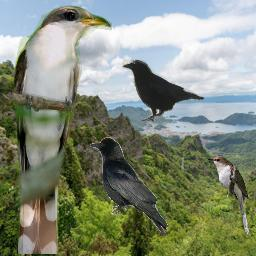Crow: (88, 137, 168, 236), (120, 58, 204, 121)
Cuckoo: (11, 4, 112, 254), (206, 155, 249, 235)
